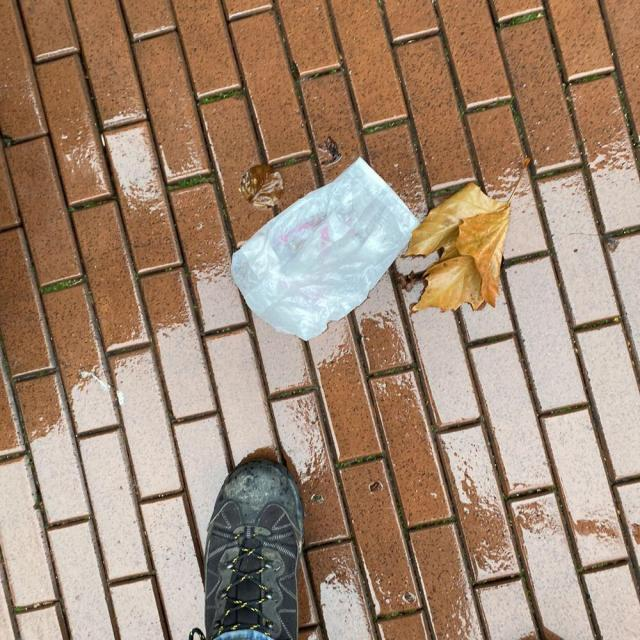Paper: (230, 156, 421, 342)
